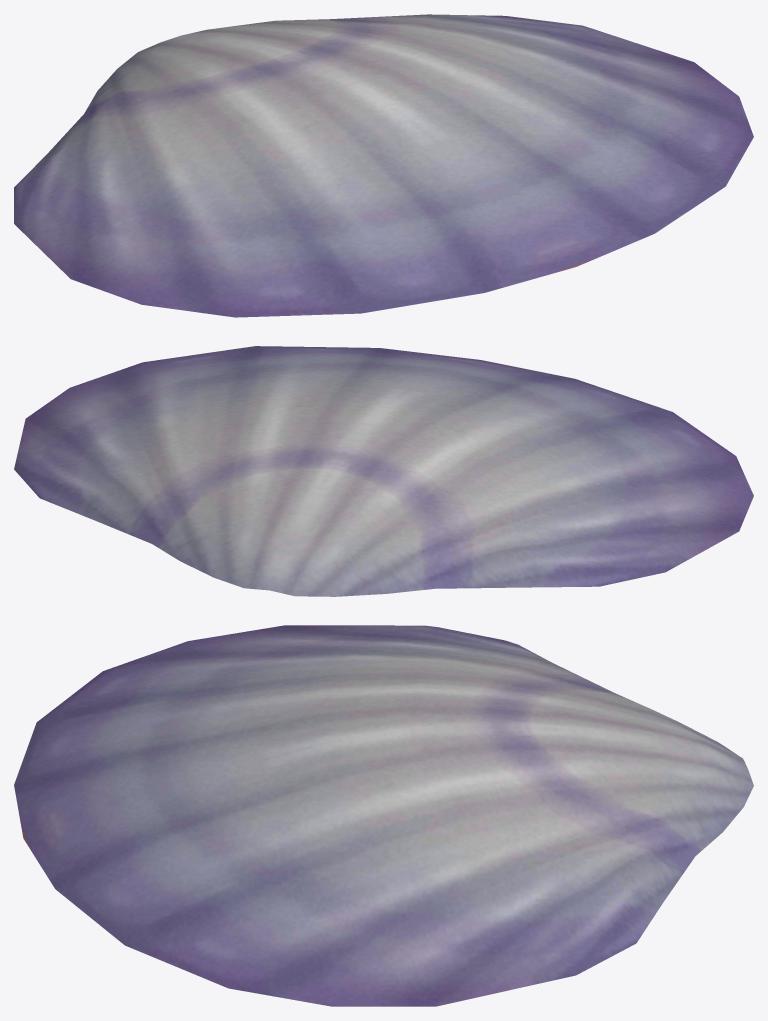
File: map_113_wujian_4.fbx
The picture shows the model from 3 angles, top to bottom: view 1: azimuth 30°, elevation 25°; view 2: azimuth 150°, elevation 25°; view 3: azimuth 270°, elevation 25°; orthographic projection. The views are drawn at different scales.
Parts seen in each view (by area): view 1: map_113_wujian_4; view 2: map_113_wujian_4; view 3: map_113_wujian_4.
Boxes of the visible parts, bbox=[...] form: map_113_wujian_4: bbox=[14, 14, 753, 317]; map_113_wujian_4: bbox=[14, 346, 753, 596]; map_113_wujian_4: bbox=[14, 625, 753, 1006].
Bounding box in the file's own units: 0.8567 × 0.0867 × 0.7026.
